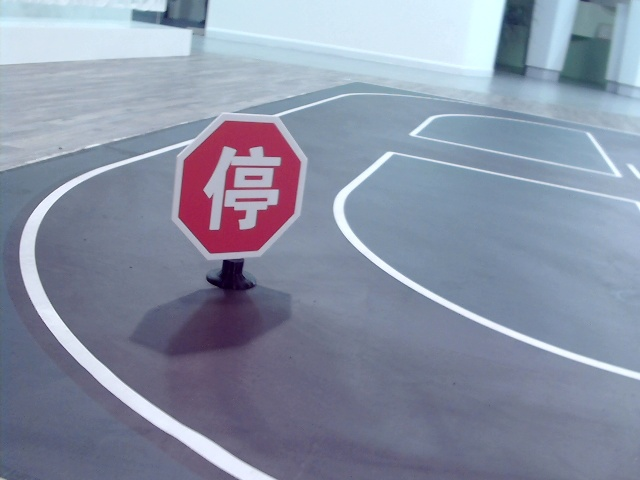stop: (202, 142, 276, 228)
